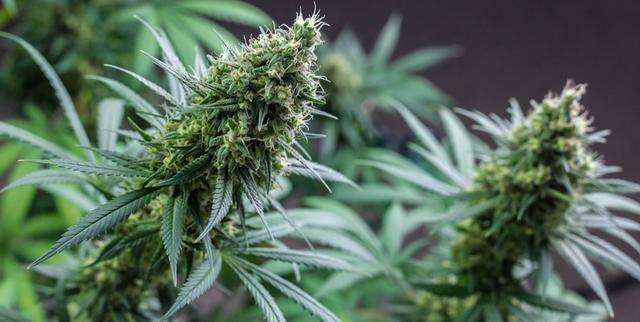Marijuana Plant: (1, 1, 374, 322), (393, 76, 640, 322)
